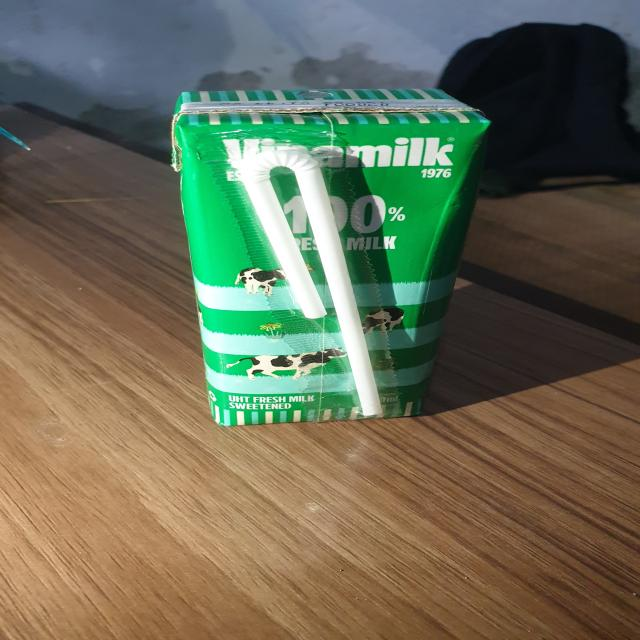Vina: (173, 77, 489, 431)
